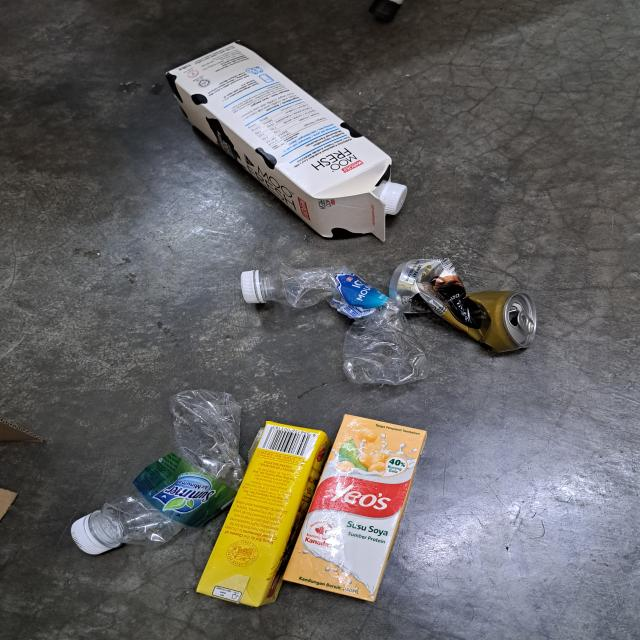can: (389, 257, 538, 353)
drink carton: (164, 38, 392, 242), (283, 413, 429, 603), (192, 420, 332, 606)
plastic bottle: (94, 389, 248, 546), (262, 263, 430, 385)
plastic bottle cap: (71, 514, 111, 555), (240, 270, 260, 304)
pop tab: (518, 311, 534, 334)
